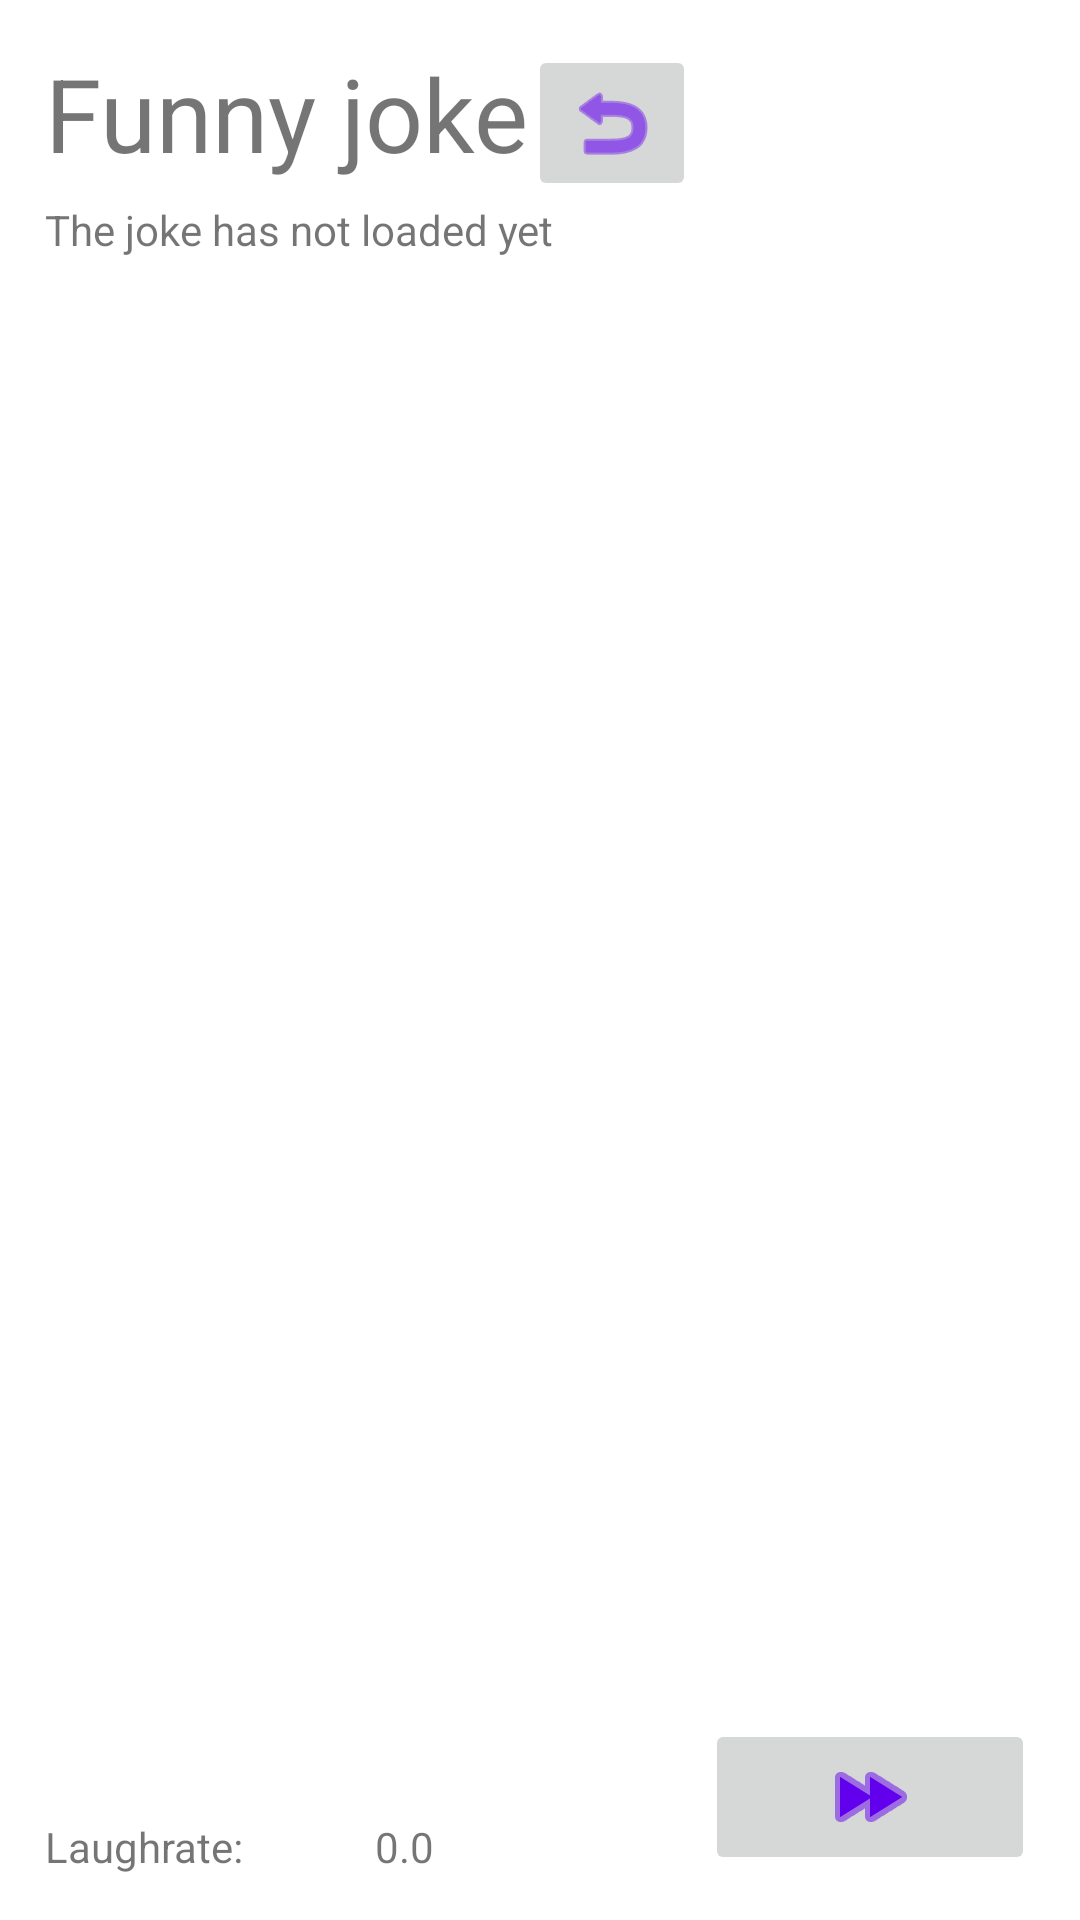

Point at icon controls on the screen. Image size 1080px x 1920px, points as point (x, y).
skip joke: point (870, 1797)
